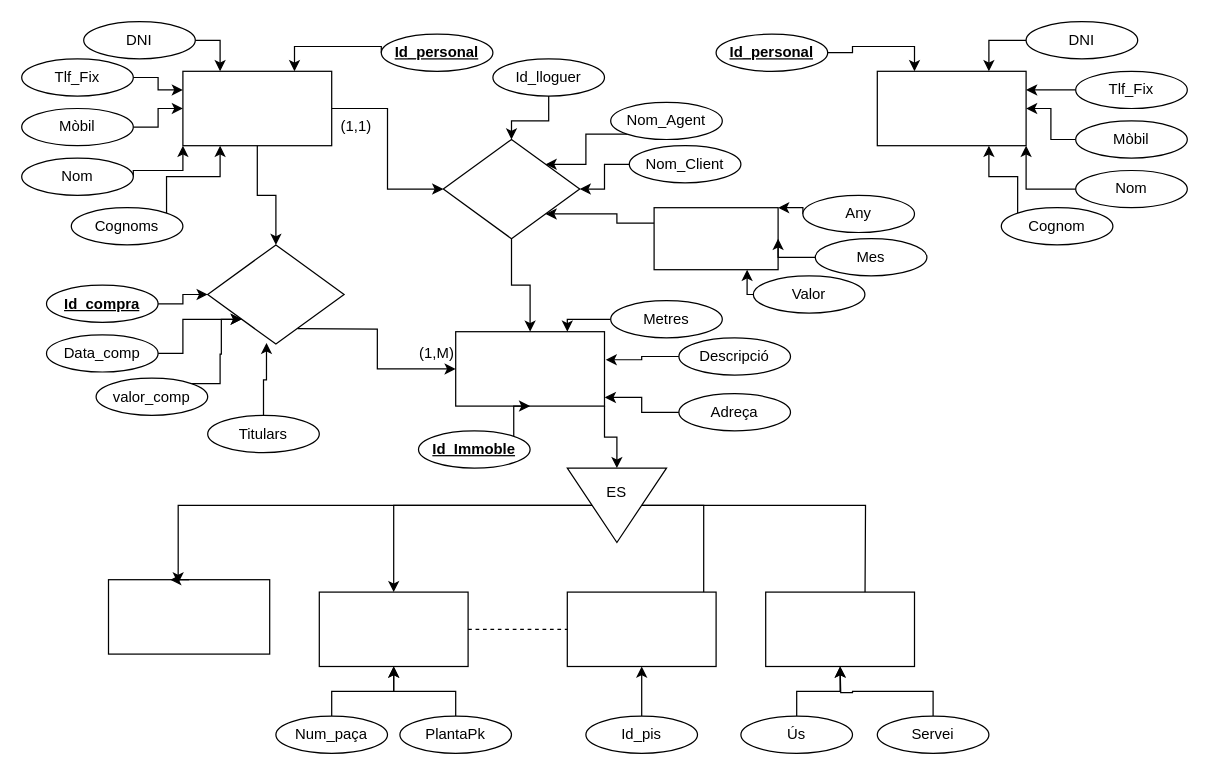
This 1209x775 diagram has some shape labels left out. Here are the shapes that lost their labels. From the top down, the centre of each, then its label:
pixel 257 108: CLIENT
pixel 951 108: TREBALLADOR
pixel 511 188: Llogar
pixel 715 238: PAGAMENT LLOGUER
pixel 275 294: Comprar
pixel 529 368: IMMOBLE
pixel 188 616: TIPUS_DESCONEGUT
pixel 393 628: PL PARKING
pixel 641 628: PIS
pixel 839 628: LOCAL
